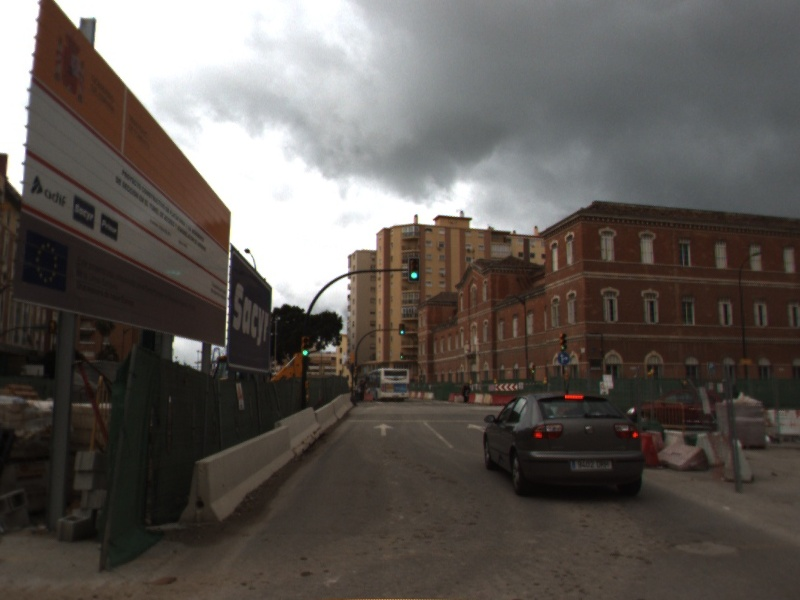STRAIGHT: (372, 422, 396, 438), (465, 421, 487, 433)
